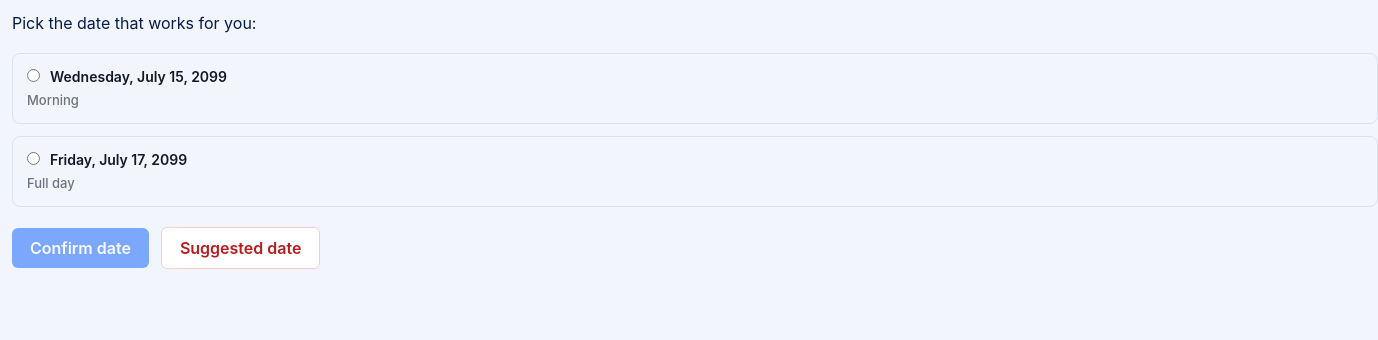
BookingPicker › shows an error banner on a non-2xx response
Click the radio button labelled "Wednesday, July 15, 2099 Morning" at (34, 75), box [27,69,40,82]
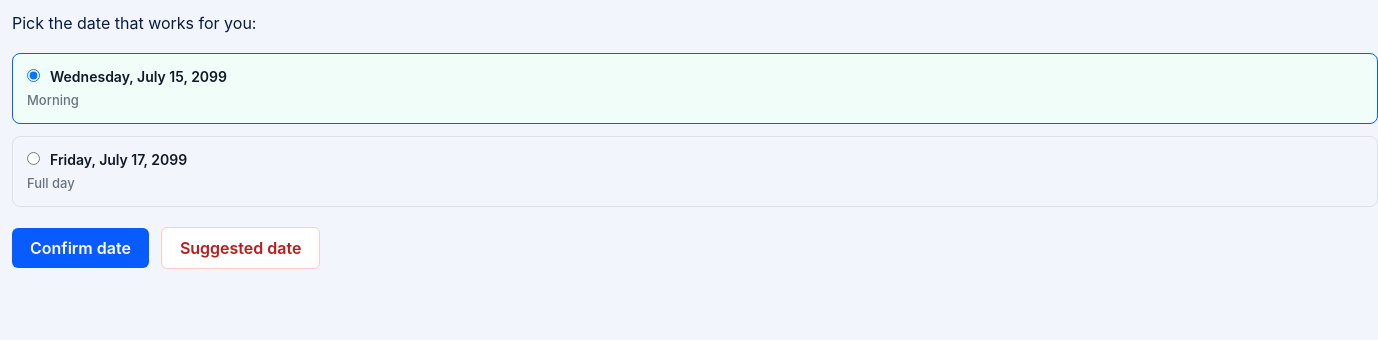
Click the button "Confirm date" at (80, 248), box [12,228,149,268]
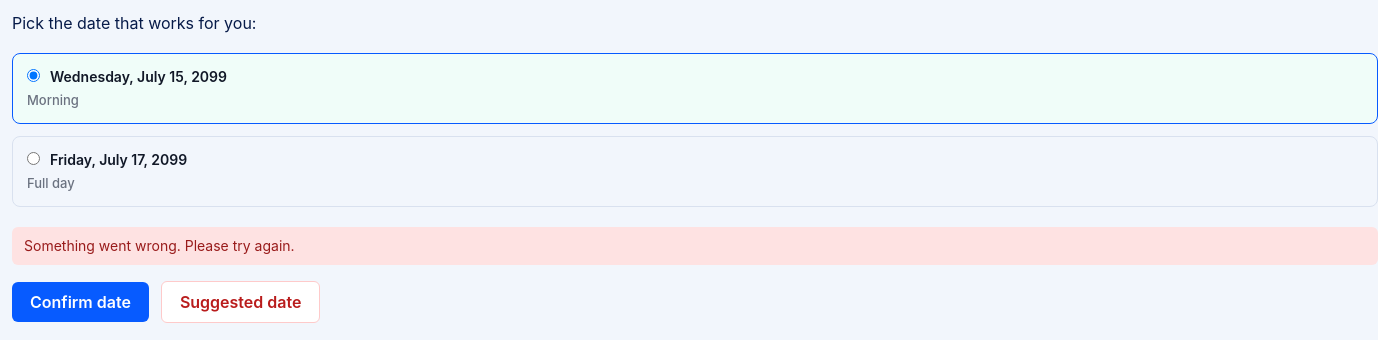
Check: the text "Something went wrong. Please try again." is shown, box [12,227,1377,265]
